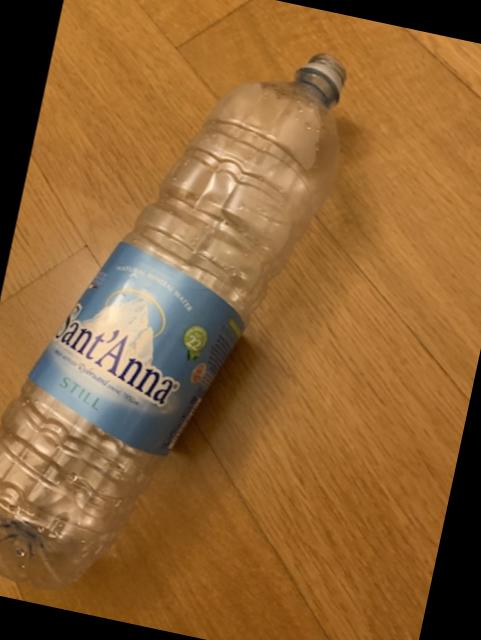plastic: (0, 52, 343, 585)
